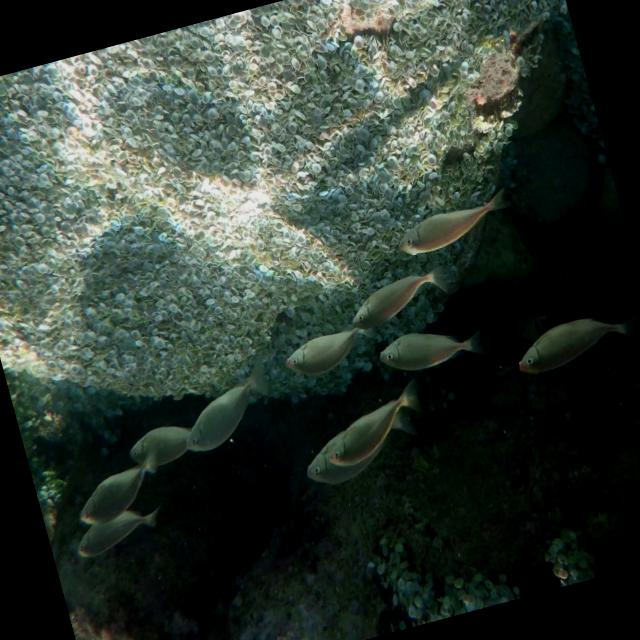Sokar Baligi: (160, 342, 288, 464), (499, 297, 640, 391), (373, 186, 517, 267), (369, 305, 496, 391)
